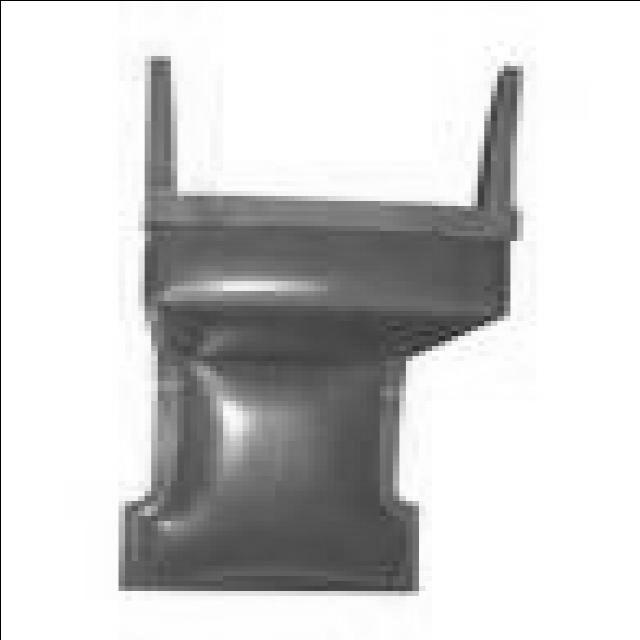chair: (114, 59, 524, 594)
